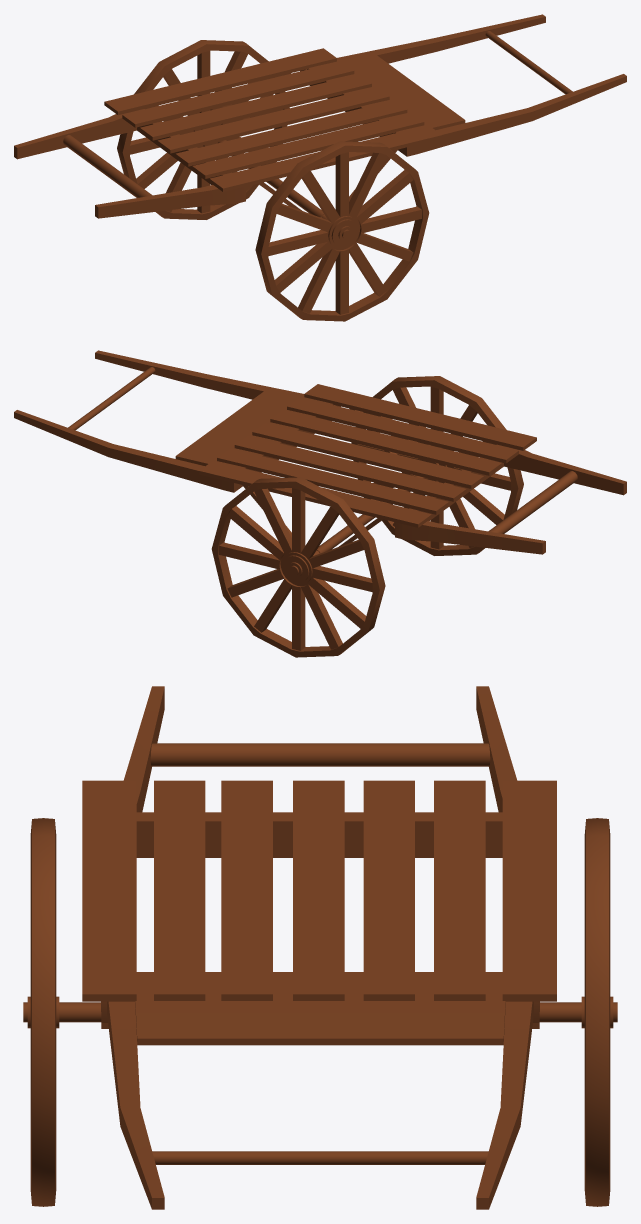
File: Charrete.fbx
3 renders of one model, top to bottom at view 1: azimuth 30°, elevation 25°; view 2: azimuth 150°, elevation 25°; view 3: azimuth 270°, elevation 25°, orthographic. The views are drawn at different scales.
Visible parts, largest first — view 1: Tabuas, RodasCharrete, BarraSegura; view 2: Tabuas, RodasCharrete, BarraSegura; view 3: Tabuas, BarraSegura, RodasCharrete.
Part boxes in pixels (<box>): Tabuas: <box>104,48,442,191</box>; RodasCharrete: <box>117,40,429,321</box>; BarraSegura: <box>14,14,626,218</box>; Tabuas: <box>199,384,536,527</box>; RodasCharrete: <box>211,376,523,657</box>; BarraSegura: <box>14,350,626,554</box>; Tabuas: <box>82,780,556,1001</box>; BarraSegura: <box>107,686,533,1209</box>; RodasCharrete: <box>23,818,617,1206</box>.
Bounding box in the file's own units: 288 × 92.02 × 140.
